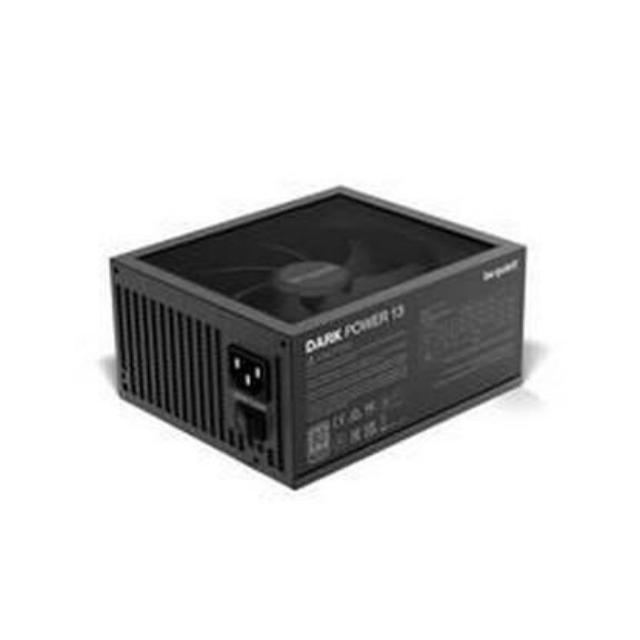PSU: (101, 171, 541, 500)
